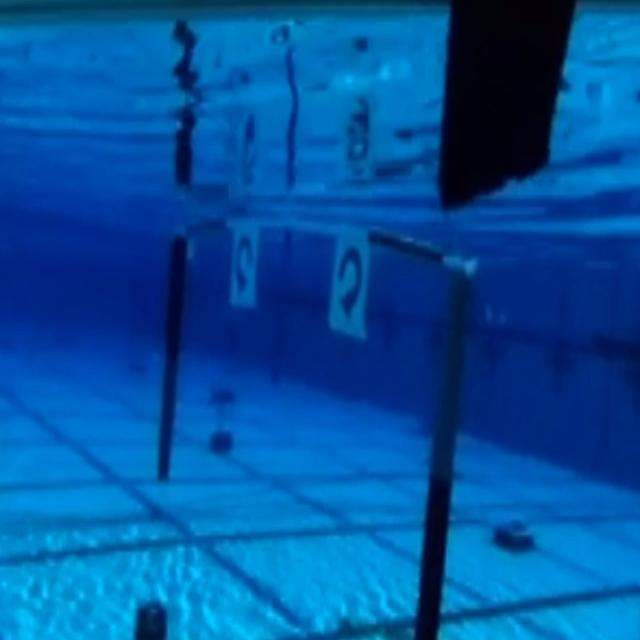Gate: (155, 209, 477, 640)
